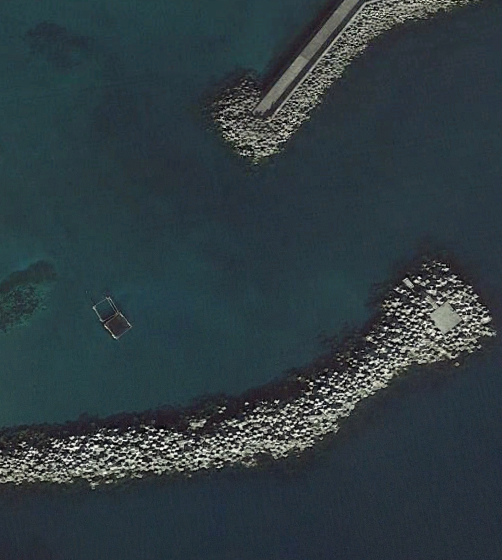square: (89, 292, 125, 324), (103, 312, 132, 341)
